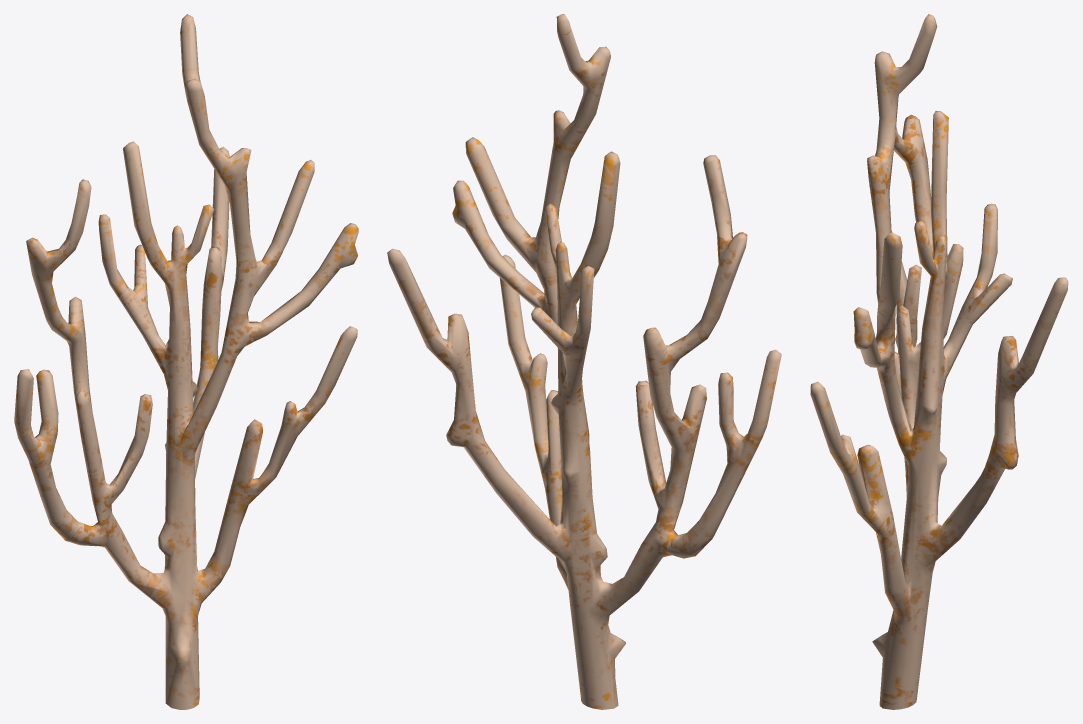
File: seaRod01a.fbx
The picture shows the model from 3 angles, left to right: view 1: azimuth 30°, elevation 25°; view 2: azimuth 150°, elevation 25°; view 3: azimuth 270°, elevation 25°; orthographic projection. The views are drawn at different scales.
Visible parts, largest first — view 1: seaRod01a; view 2: seaRod01a; view 3: seaRod01a.
Part boxes in pixels (box(x1,y1,x2,y2)): seaRod01a: box(14, 14, 358, 709); seaRod01a: box(387, 14, 781, 709); seaRod01a: box(810, 14, 1068, 709).
Size of the model in its own units: 0.2862 by 0.5623 by 0.1876.
